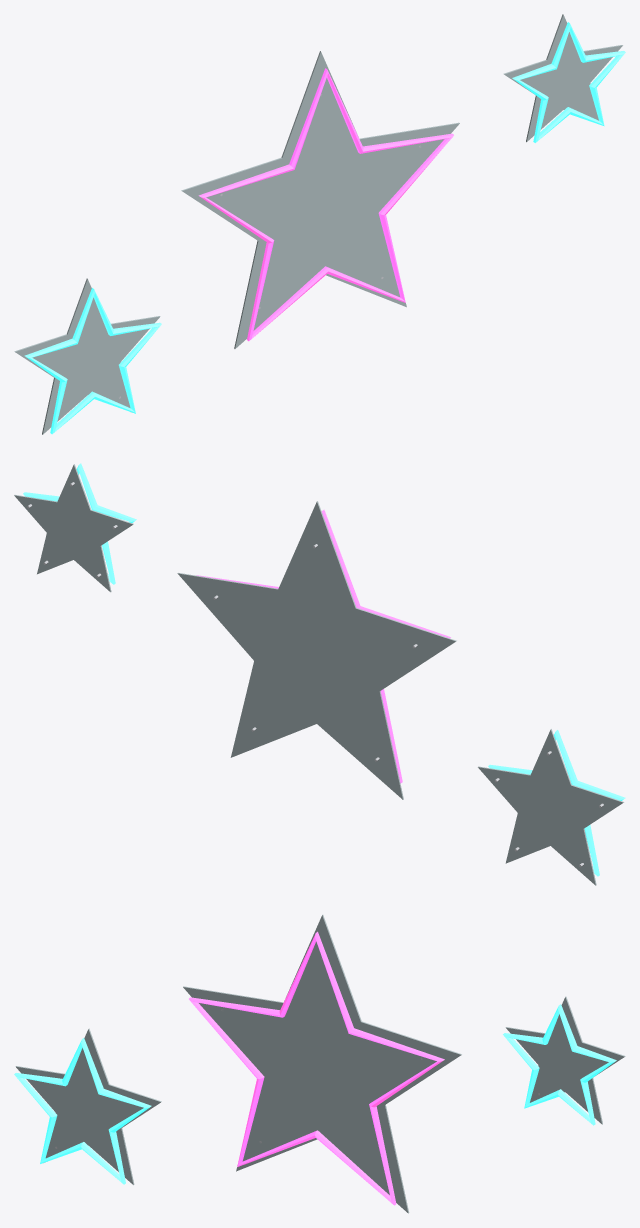
The picture shows the model from 3 angles, top to bottom: view 1: azimuth 30°, elevation 25°; view 2: azimuth 150°, elevation 25°; view 3: azimuth 330°, elevation 25°; orthographic projection.
Parts seen in each view (by area): view 1: star_pink_backer, star_cyan_l_backer, star_pink_tube, star_cyan_r_backer, star_cyan_l_tube, star_cyan_r_tube; view 2: star_pink_backer, star_cyan_l_backer, star_cyan_r_backer, star_pink_tube, star_cyan_l_tube, star_cyan_r_tube; view 3: star_pink_backer, star_cyan_l_backer, star_pink_tube, star_cyan_r_backer, star_cyan_l_tube, star_cyan_r_tube.
Part boxes in pixels (bbox=[...]): star_pink_backer: bbox=[181, 51, 459, 348]; star_cyan_l_backer: bbox=[14, 278, 160, 434]; star_pink_tube: bbox=[198, 68, 453, 341]; star_cyan_r_backer: bbox=[503, 14, 622, 142]; star_cyan_l_tube: bbox=[24, 288, 161, 434]; star_cyan_r_tube: bbox=[512, 22, 625, 142]; star_pink_backer: bbox=[177, 501, 456, 799]; star_cyan_l_backer: bbox=[478, 729, 624, 885]; star_cyan_r_backer: bbox=[14, 464, 133, 592]; star_pink_tube: bbox=[196, 509, 450, 783]; star_cyan_l_tube: bbox=[488, 730, 625, 876]; star_cyan_r_tube: bbox=[23, 463, 136, 584]; star_pink_backer: bbox=[183, 914, 461, 1213]; star_cyan_l_backer: bbox=[15, 1028, 161, 1184]; star_pink_tube: bbox=[189, 931, 444, 1205]; star_cyan_r_backer: bbox=[505, 996, 625, 1124]; star_cyan_l_tube: bbox=[14, 1038, 151, 1184]; star_cyan_r_tube: bbox=[503, 1004, 616, 1125].
Size of the model in its own units: 1.96 by 0.9697 by 0.061.
